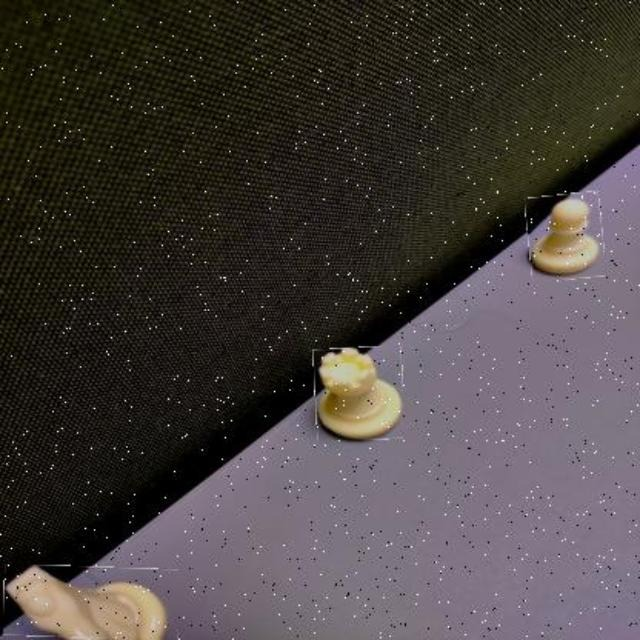white-knight: (4, 567, 180, 639)
white-pawn: (528, 192, 604, 279)
white-rook: (314, 346, 404, 441)
